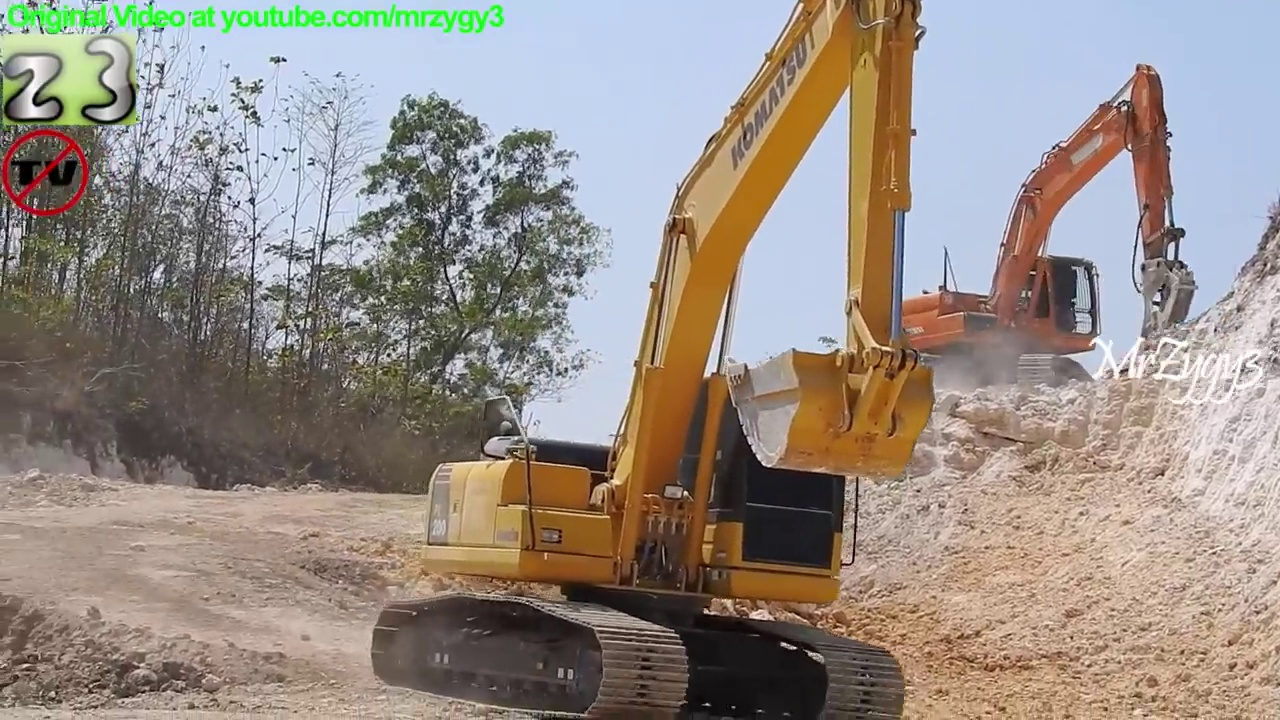excavator: (368, 1, 945, 720), (855, 58, 1202, 398)
